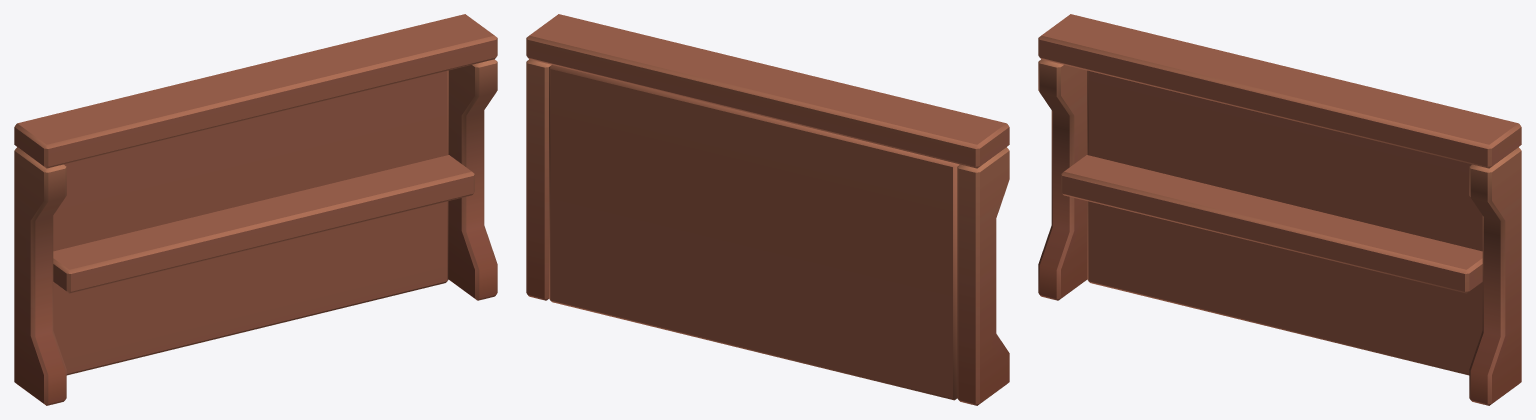
The model's file is bartop_a_large.glb.
3 renders of one model, left to right at view 1: azimuth 30°, elevation 25°; view 2: azimuth 150°, elevation 25°; view 3: azimuth 330°, elevation 25°, orthographic.
Parts seen in each view (by area): view 1: bartop_A_large; view 2: bartop_A_large; view 3: bartop_A_large.
Part boxes in pixels (left/top/right/bottom): bartop_A_large: left=14, top=14, right=497, bottom=405; bartop_A_large: left=526, top=14, right=1009, bottom=405; bartop_A_large: left=1038, top=14, right=1521, bottom=405.
Size of the model in its own units: 4 by 2.2 by 0.5.
1 material, 1 textured.
